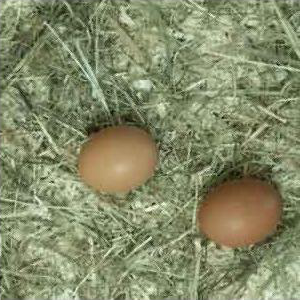egg: (196, 179, 281, 246), (77, 125, 157, 193)
